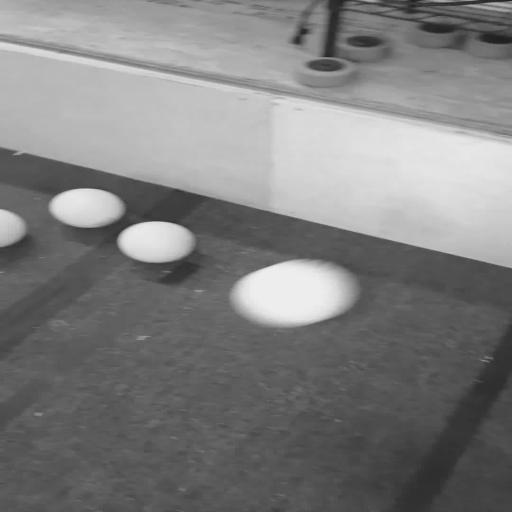fuel: (230, 259, 360, 328), (117, 221, 196, 263), (48, 188, 126, 229), (0, 209, 27, 248)
